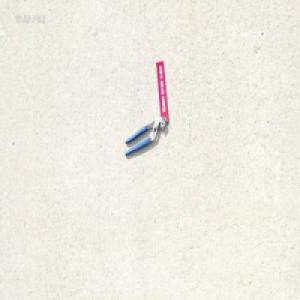Label: (155, 61, 169, 123)
Pliers: (124, 115, 166, 157)
